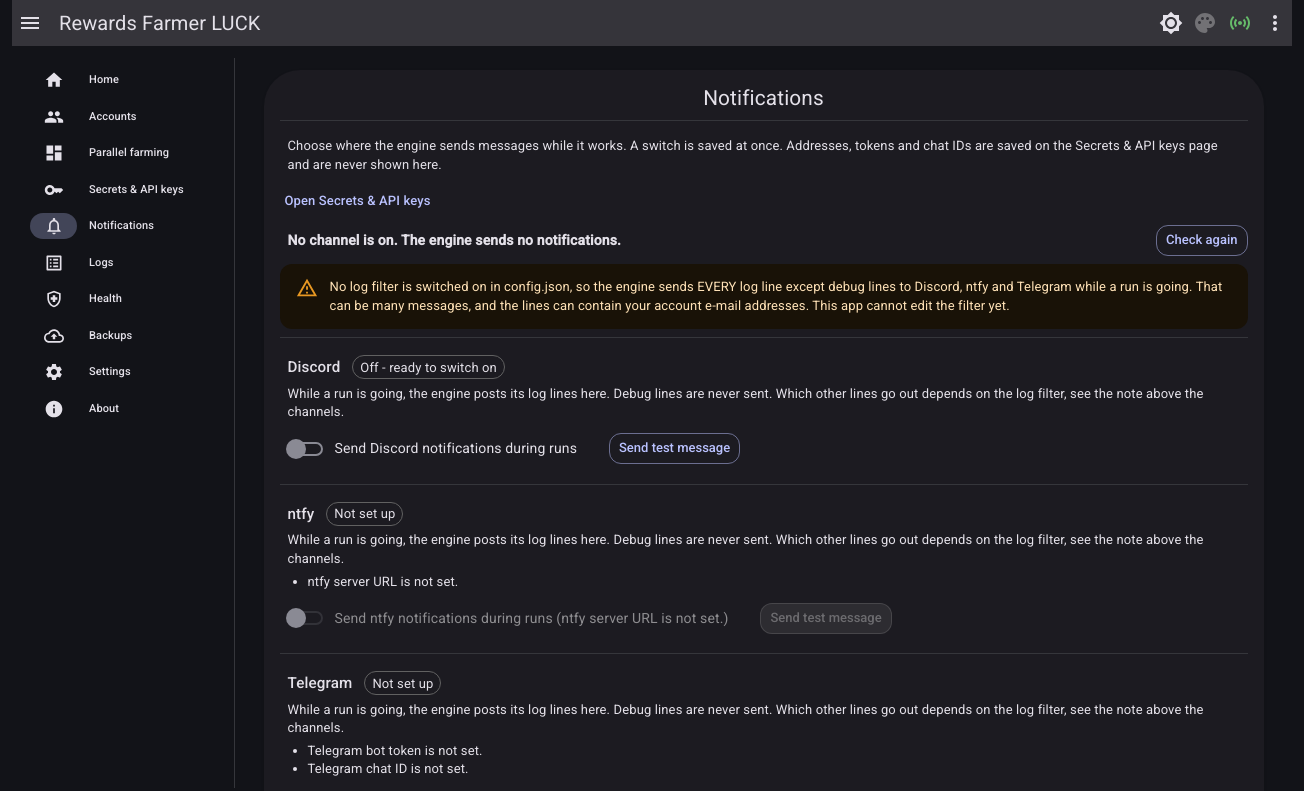
it: Notifications page (Phase 17) › failure "misconfigured" is shown with its exact text and the honest request line
expect the element with test id "notify-card-discord" is shown: met, box [280,337,1248,484]
Click the button with aria-label "Send test message to Discord". click: (675,449)
box: [609,434,740,464]
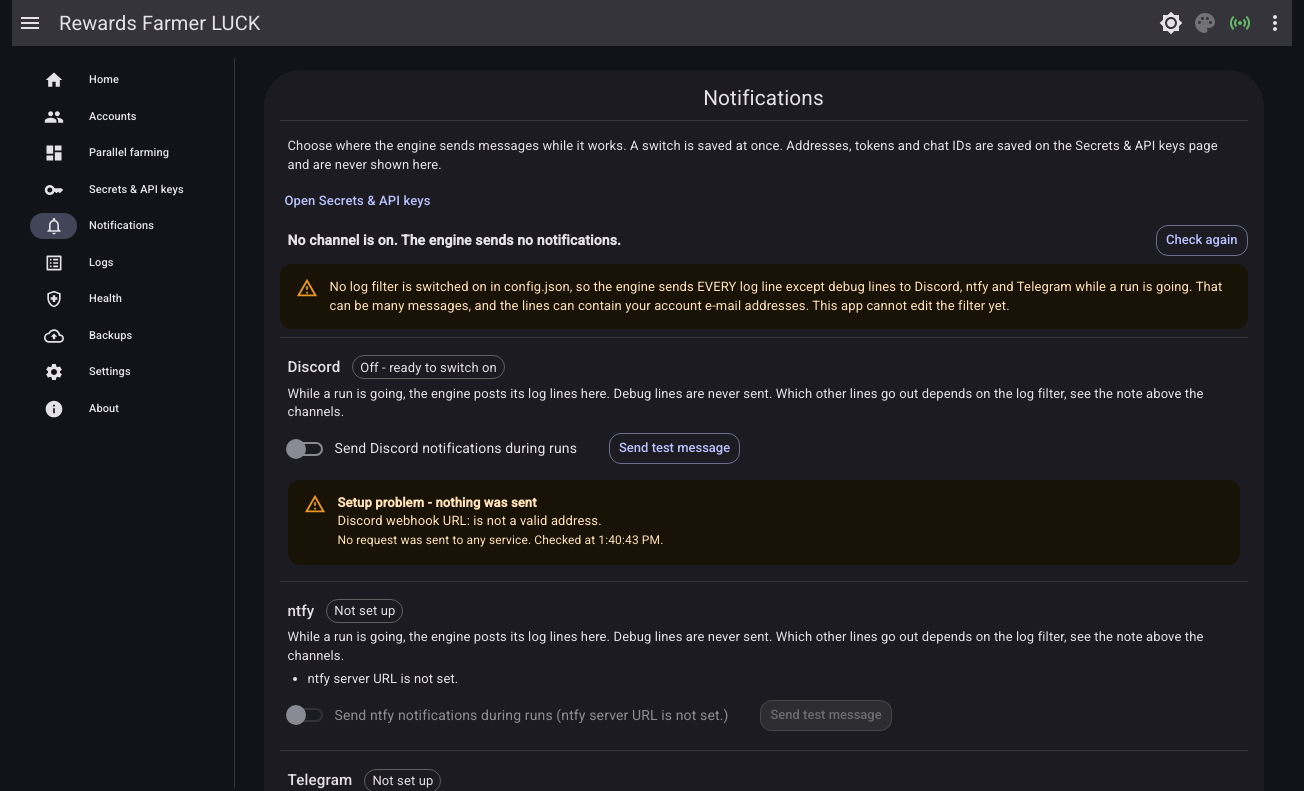
expect the message with test id "notify-result-discord" shows "Setup problem - nothing was sent": met, box [338,495,537,510]
expect the message with test id "notify-result-discord" shows "Discord webhook URL: is not a valid address.": met, box [338,513,602,528]
expect the message with test id "notify-result-discord" shows "No request was sent to any service.": met, box [338,533,664,547]
